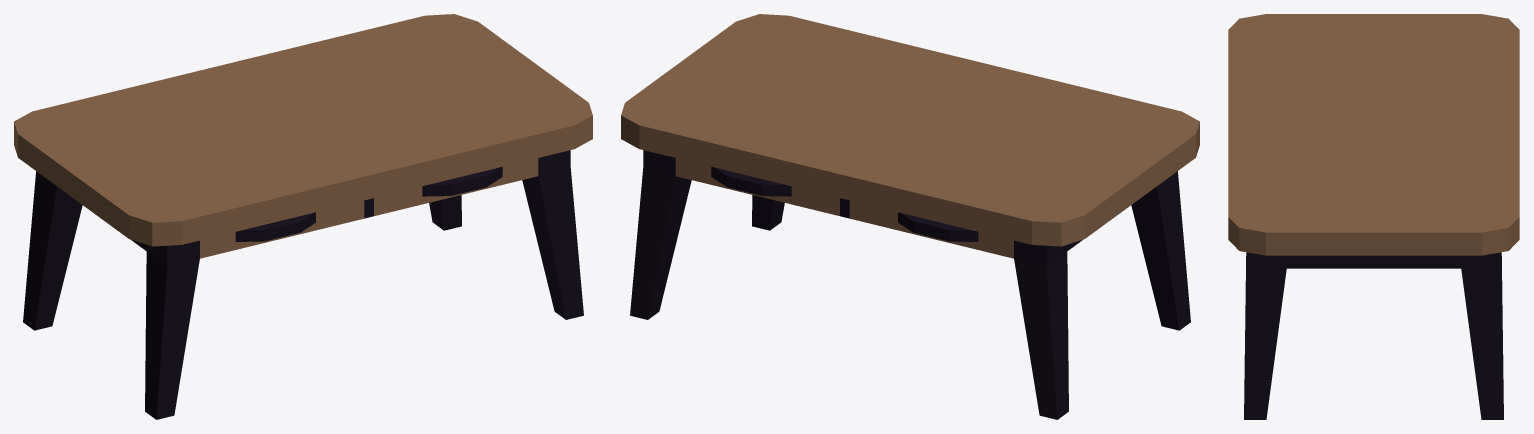
The model's file is Dining_Table.fbx.
The picture shows the model from 3 angles, left to right: view 1: azimuth 30°, elevation 25°; view 2: azimuth 150°, elevation 25°; view 3: azimuth 270°, elevation 25°; orthographic projection. The views are drawn at different scales.
Parts seen in each view (by area): view 1: Table; view 2: Table; view 3: Table.
Boxes of the visible parts, x1,y1,x2,y2 form: Table: (14,14,592,419); Table: (621,14,1199,419); Table: (1228,14,1519,419).
Bounding box in the file's own units: 420 × 237 × 175.
